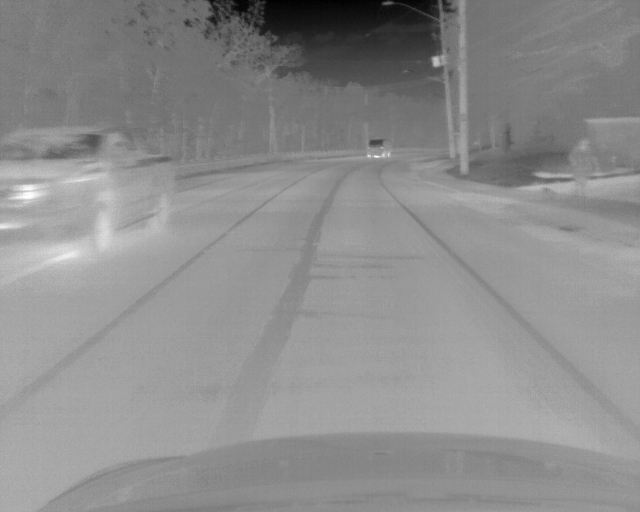car: (1, 127, 180, 257), (365, 138, 392, 159)
people: (566, 138, 600, 201)
